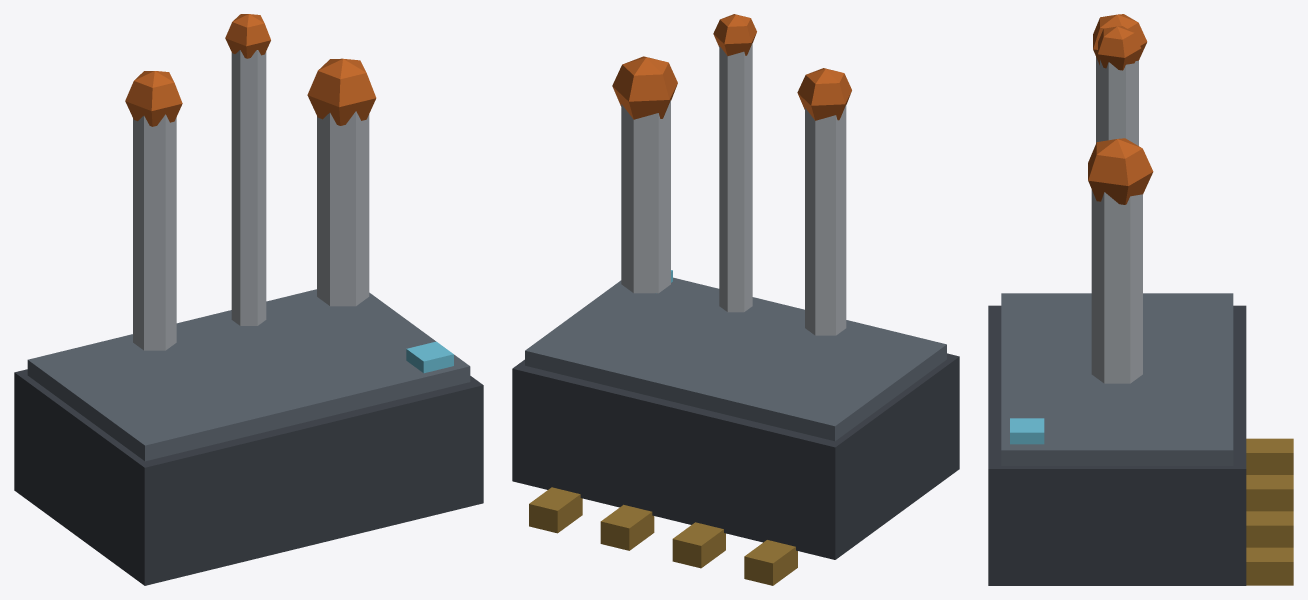
The model's file is droid-tool-integration.glb.
3 views of the same model, side by side, from view 1: azimuth 30°, elevation 25°; view 2: azimuth 150°, elevation 25°; view 3: azimuth 270°, elevation 25° (orthographic). The views are drawn at different scales.
Parts seen in each view (by area): view 1: m; view 2: m; view 3: m.
Part boxes in pixels (<box>): m: <box>14,14,483,585</box>; m: <box>512,14,959,585</box>; m: <box>988,14,1293,585</box>.
Size of the model in its own units: 0.1 by 0.1418 by 0.0789.
